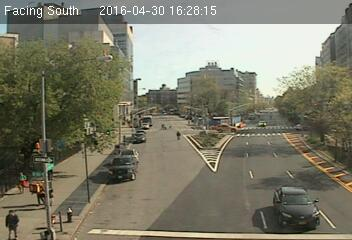neg: (23, 135, 49, 170), (133, 186, 159, 221), (90, 138, 112, 167), (93, 34, 114, 62), (209, 113, 228, 138), (229, 178, 248, 203), (92, 100, 110, 124), (64, 203, 81, 227), (144, 42, 160, 64), (49, 83, 65, 104), (282, 87, 298, 108), (141, 112, 155, 131), (318, 83, 331, 100), (171, 93, 183, 110), (241, 110, 252, 124), (238, 56, 249, 70), (74, 104, 84, 116)
pos: (1, 205, 25, 237), (14, 168, 33, 193), (35, 185, 51, 206), (172, 128, 183, 144)
